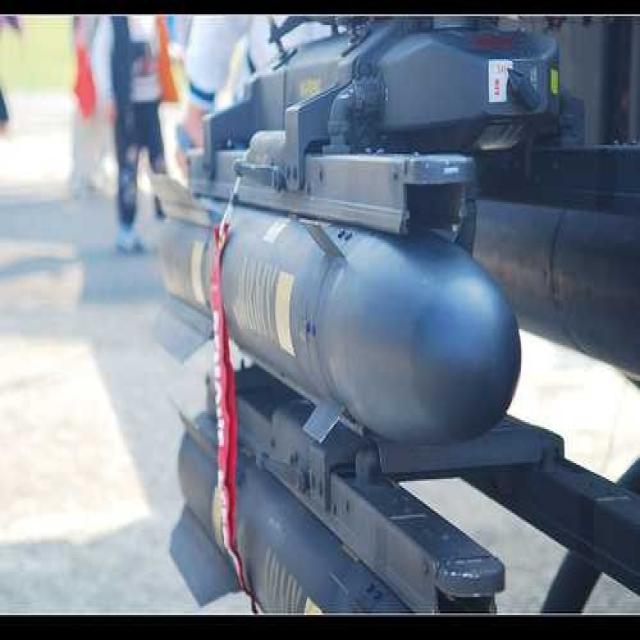missile: (140, 149, 531, 460)
